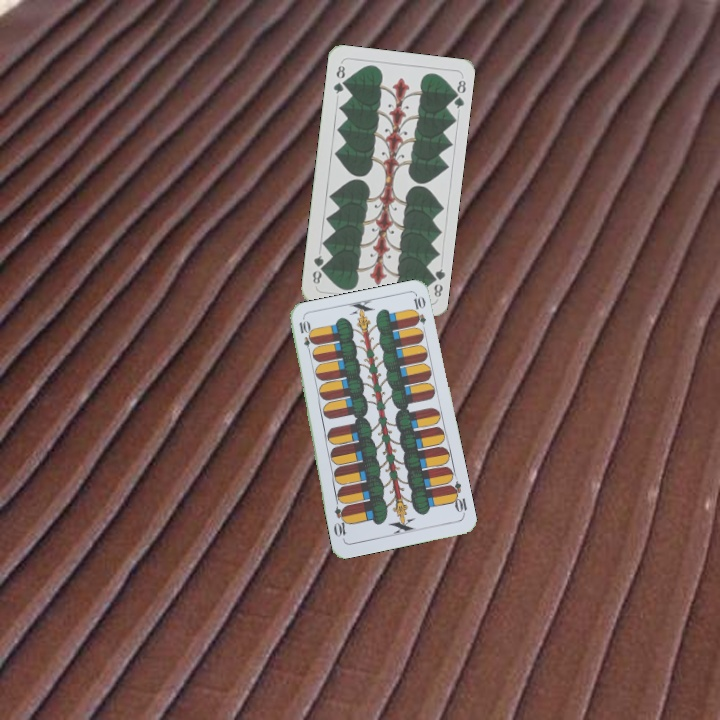E10: (445, 478, 470, 518), (294, 317, 315, 357)
G8: (426, 265, 447, 299), (329, 61, 348, 96)
